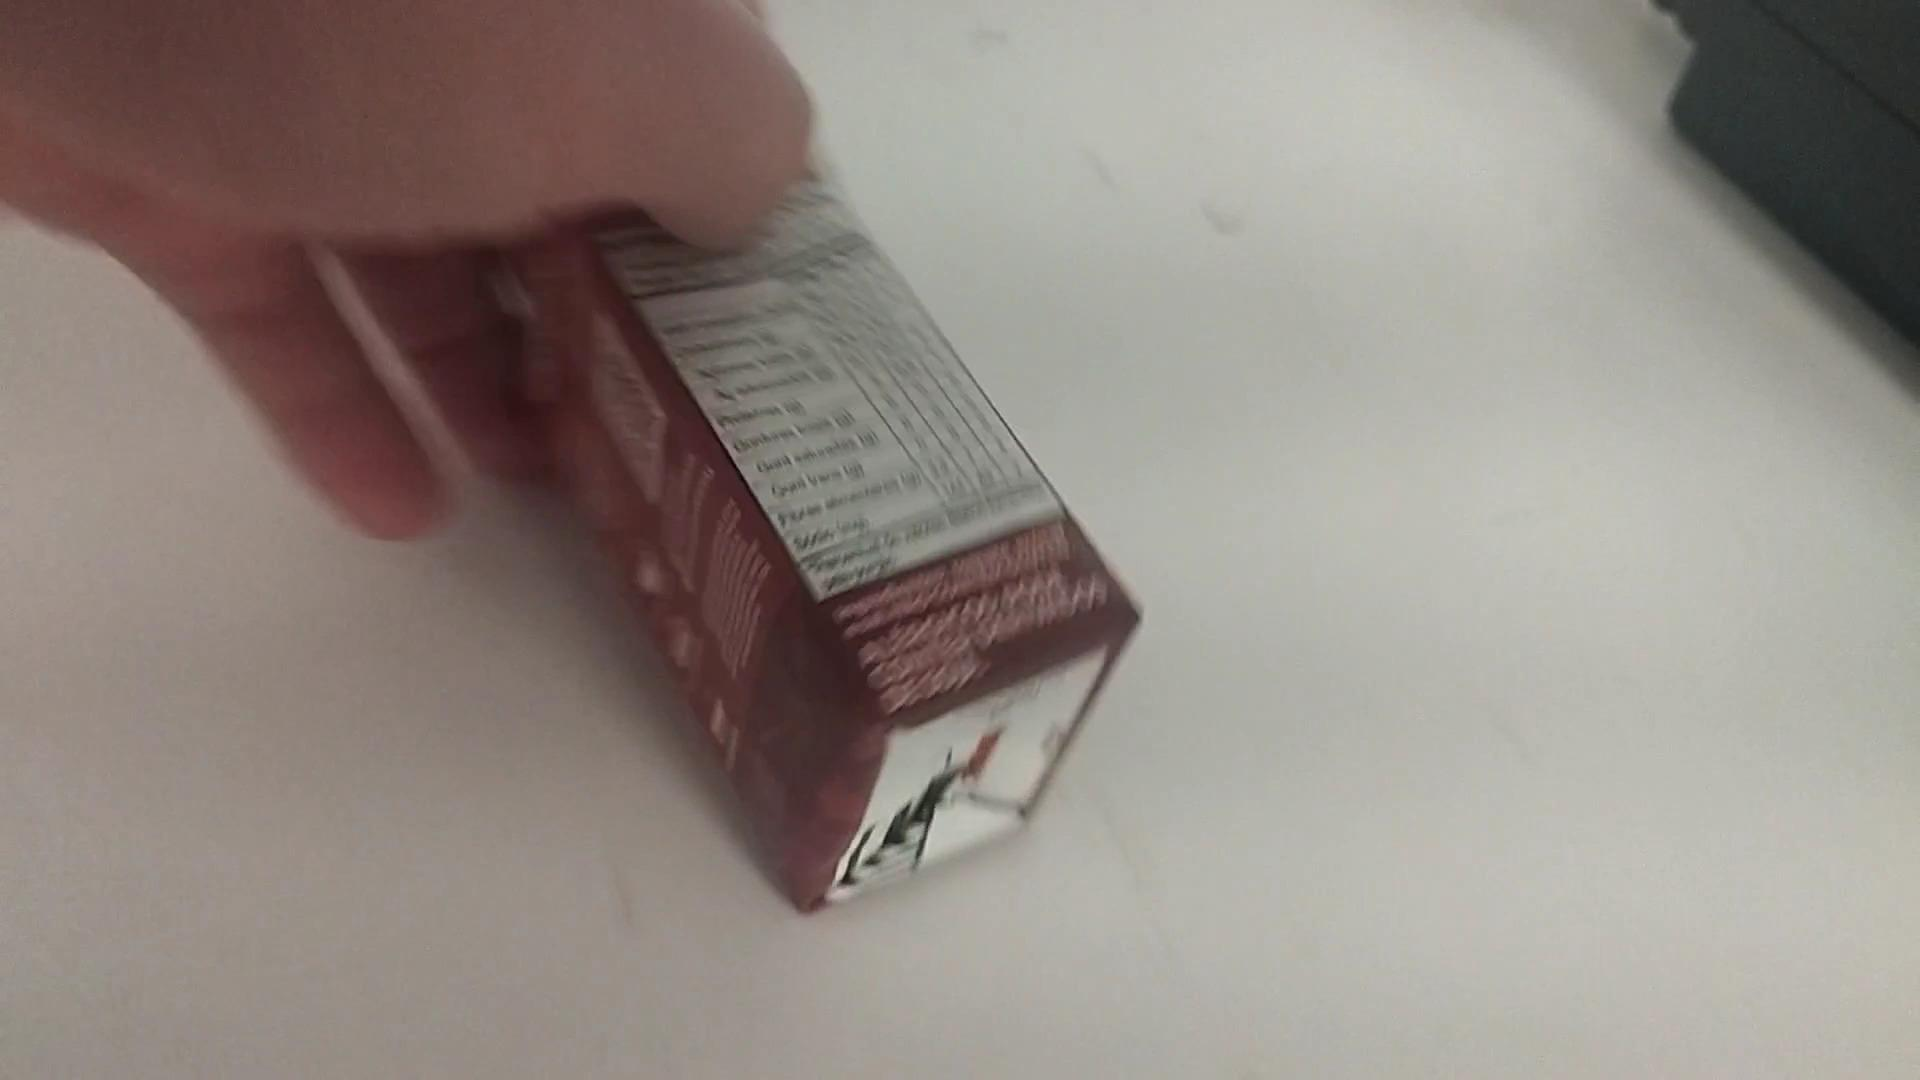tomate: (509, 98, 1139, 915)
